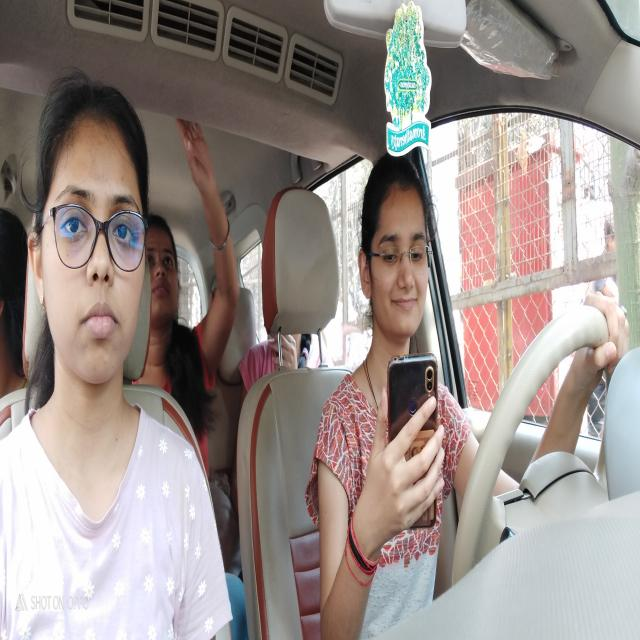mobile: (381, 349, 448, 545)
person: (29, 68, 149, 389), (355, 156, 437, 349), (144, 209, 182, 330)
